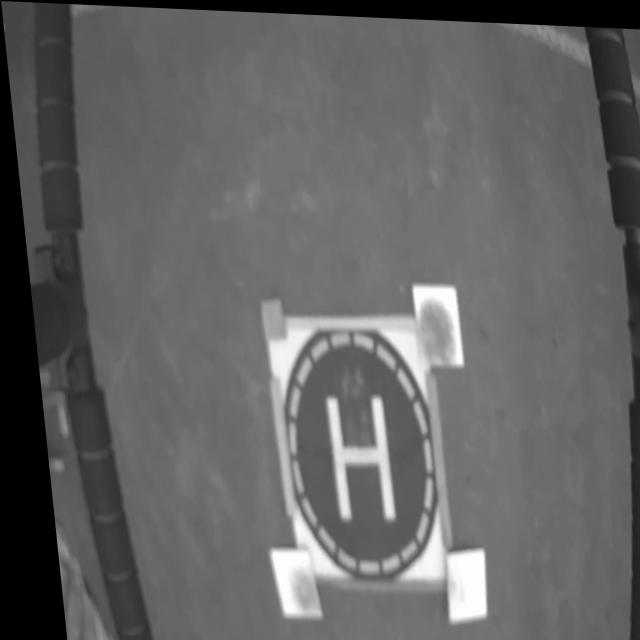Helipad: (316, 393, 384, 519)
